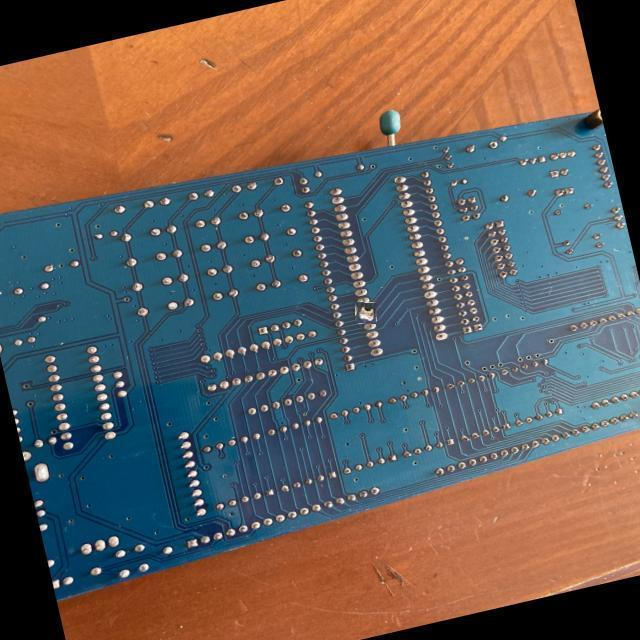damged: (356, 302, 377, 324)
